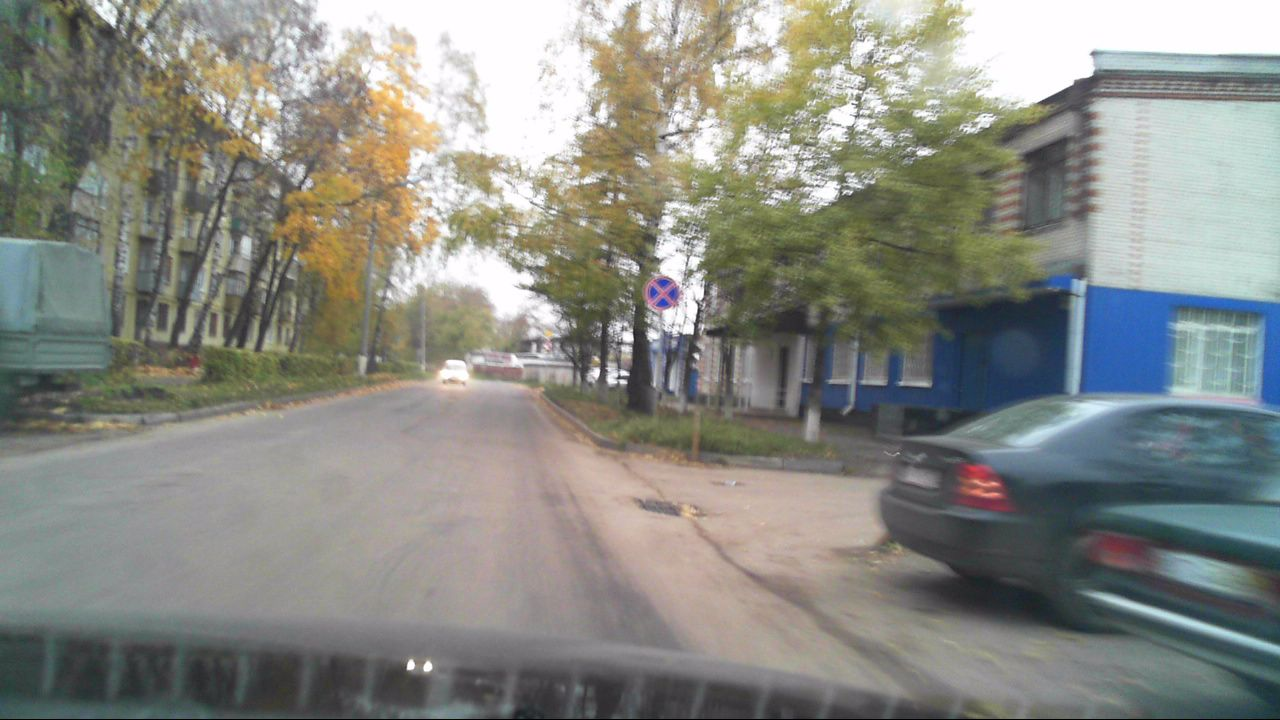No Parking: (644, 275, 678, 310)
